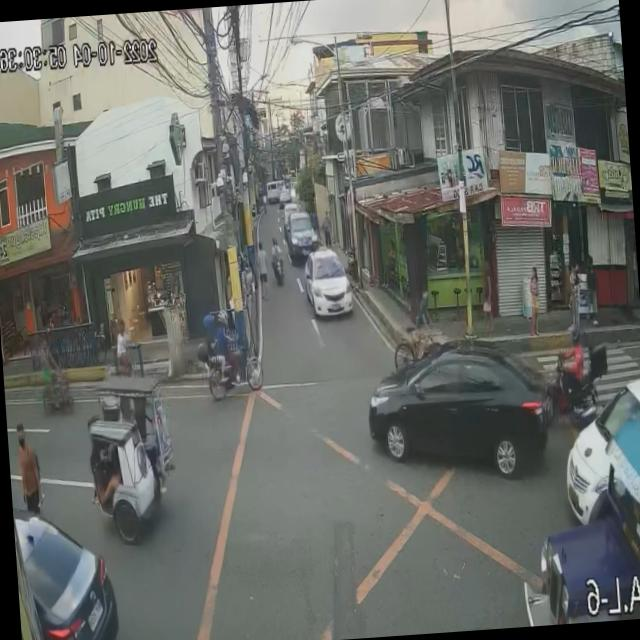full: (568, 323, 582, 345), (216, 310, 229, 330)
half: (201, 312, 215, 336)
